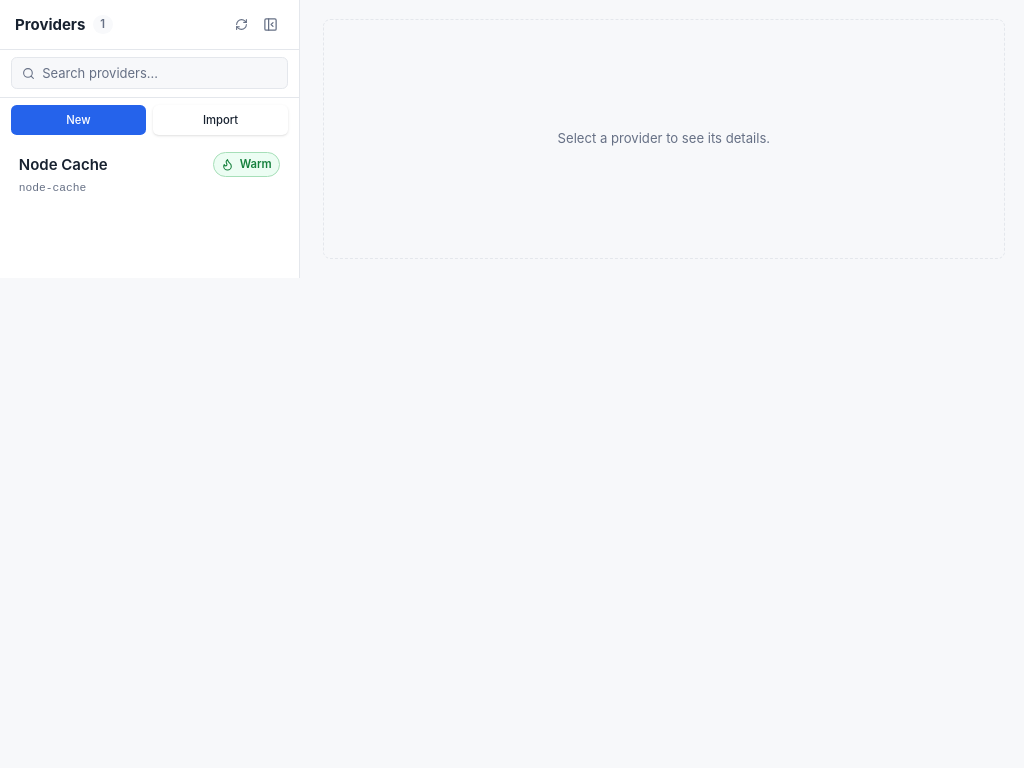
Test case: ProvidersPage › surfaces a warmup failure returned by a 200 response
The width and height of the screenshot is (1024, 768).
Click the button "Node Cache Warm node-cache" at (63, 164), box [8,143,292,205]
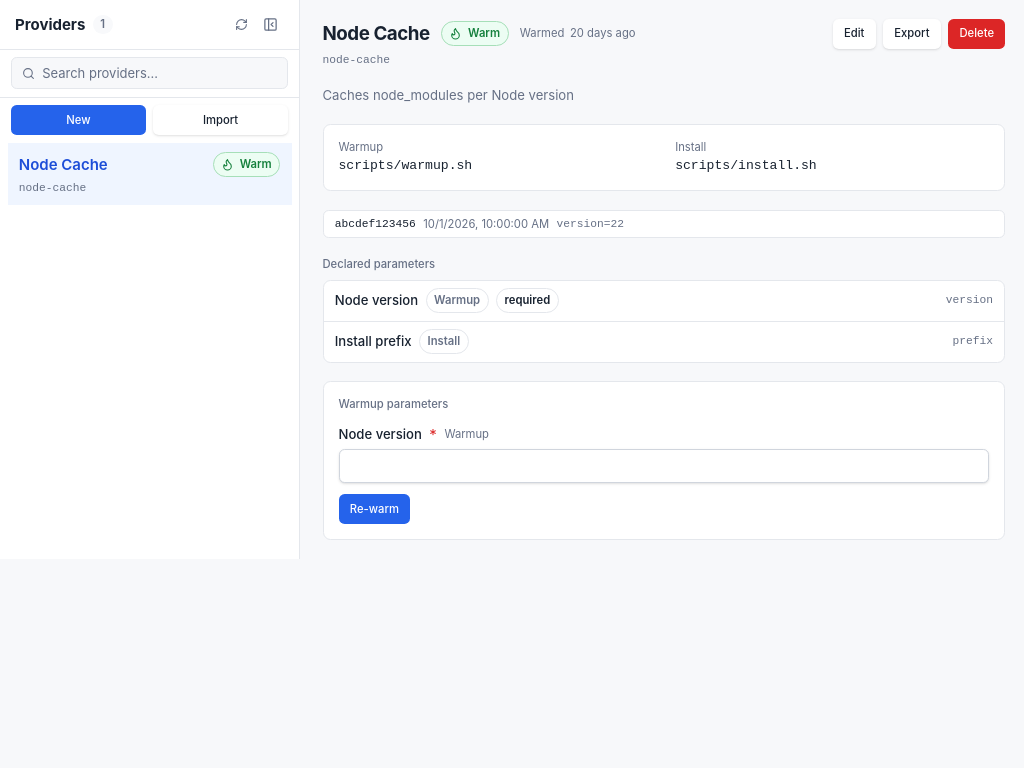
Type "22" into the field labelled "Node version" at (664, 466), box [338,449,989,483]
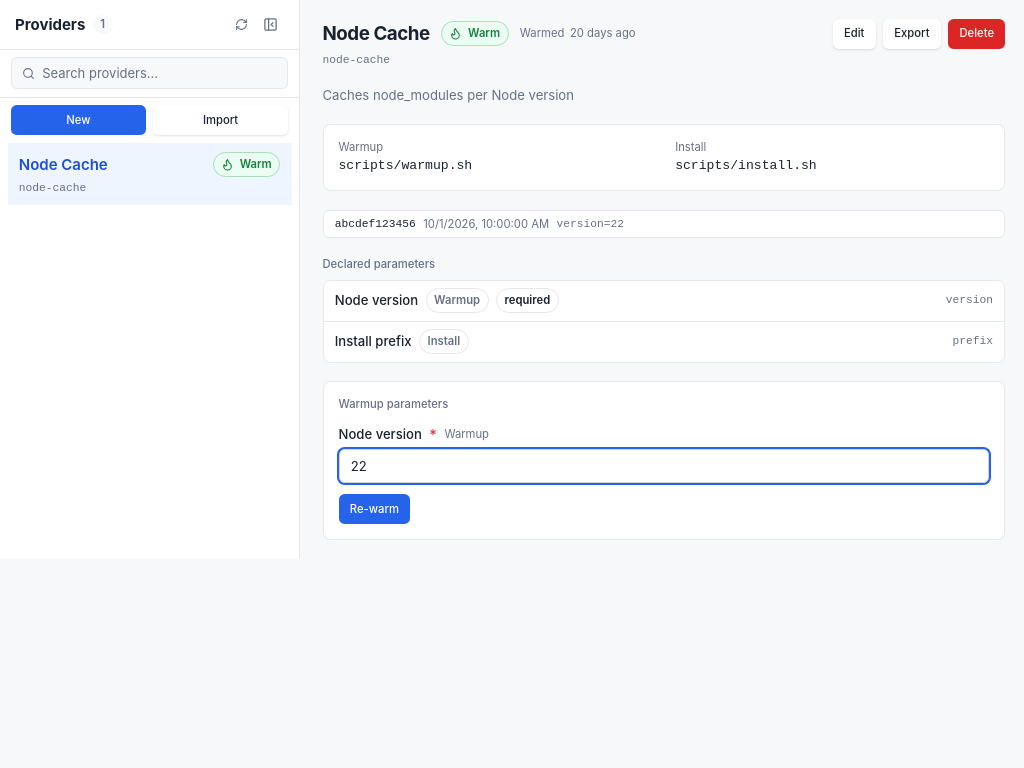
Click the button "Re-warm" at (374, 509), box [338,494,410,524]
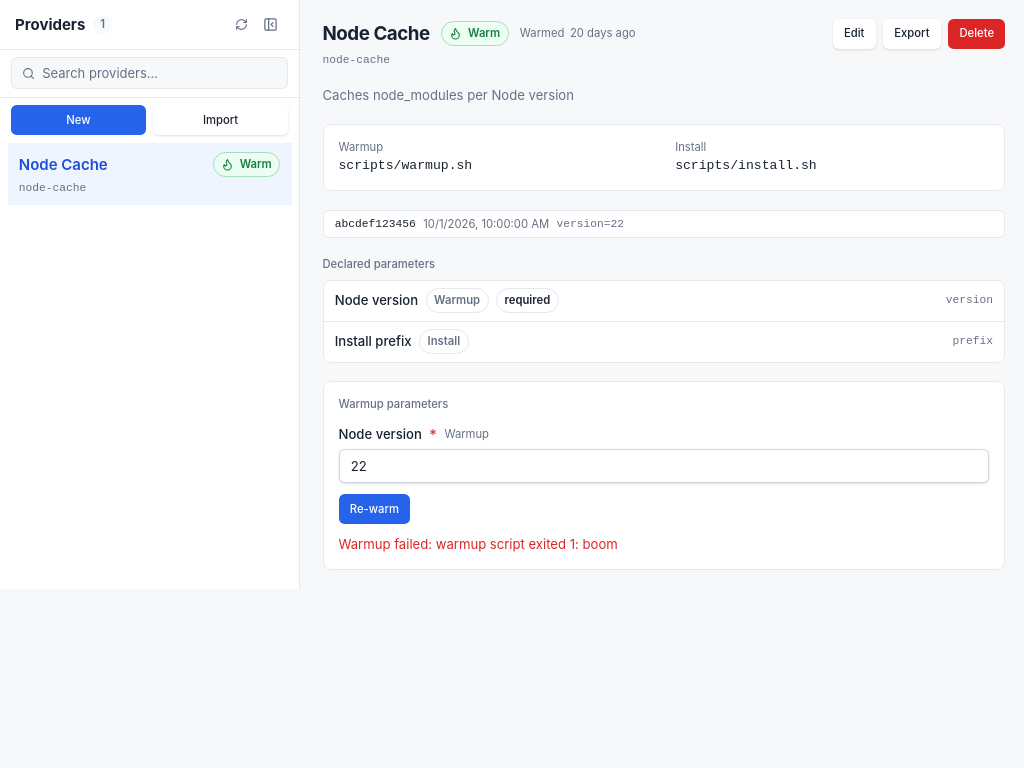
Expected: the message shows "warmup script exited 1: boom", [338,536,618,552]
